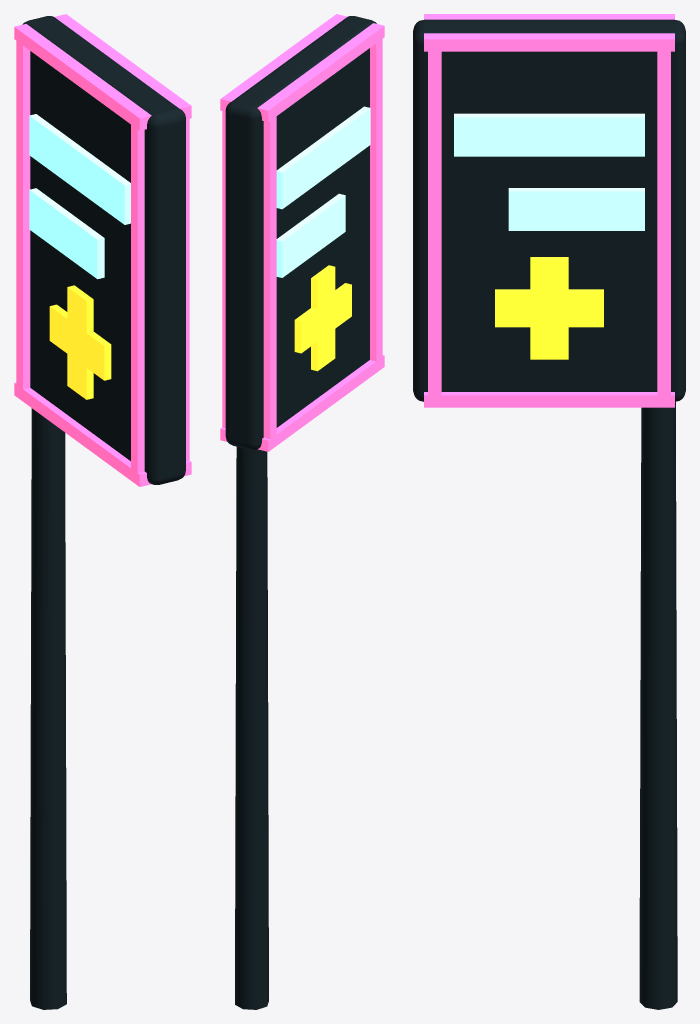
File: neon-pole.glb
3 views of the same model, side by side, from view 1: azimuth 30°, elevation 25°; view 2: azimuth 150°, elevation 25°; view 3: azimuth 270°, elevation 25° (orthographic). The views are drawn at different scales.
Visible parts, largest first — view 1: sign board, neon pink, neon mint, neon amber; view 2: sign board, neon pink, neon mint, neon amber; view 3: sign board, neon pink, neon mint, neon amber.
Part boxes in pixels (left/top/right/bottom): sign board: left=22, top=16, right=185, bottom=1009; neon pink: left=14, top=14, right=191, bottom=486; neon mint: left=29, top=114, right=130, bottom=279; neon amber: left=49, top=285, right=111, bottom=399; sign board: left=225, top=16, right=376, bottom=1009; neon pink: left=220, top=14, right=384, bottom=451; neon mint: left=276, top=106, right=370, bottom=277; neon amber: left=294, top=265, right=351, bottom=371; sign board: left=413, top=19, right=685, bottom=1009; neon pink: left=424, top=14, right=674, bottom=407; neon mint: left=454, top=113, right=644, bottom=230; neon amber: left=495, top=257, right=603, bottom=359.
Bounding box in the file's own units: 0.22 × 3.95 × 1.
